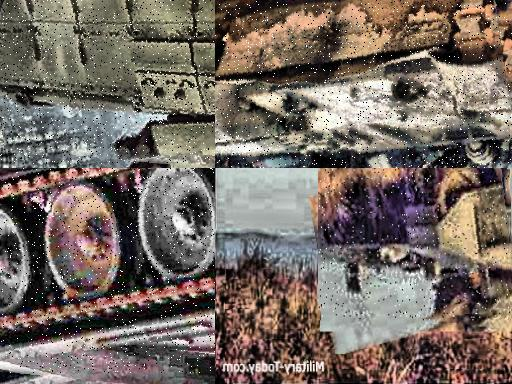tanks: (216, 1, 512, 169), (1, 169, 216, 368), (1, 1, 216, 165), (320, 169, 510, 321)
